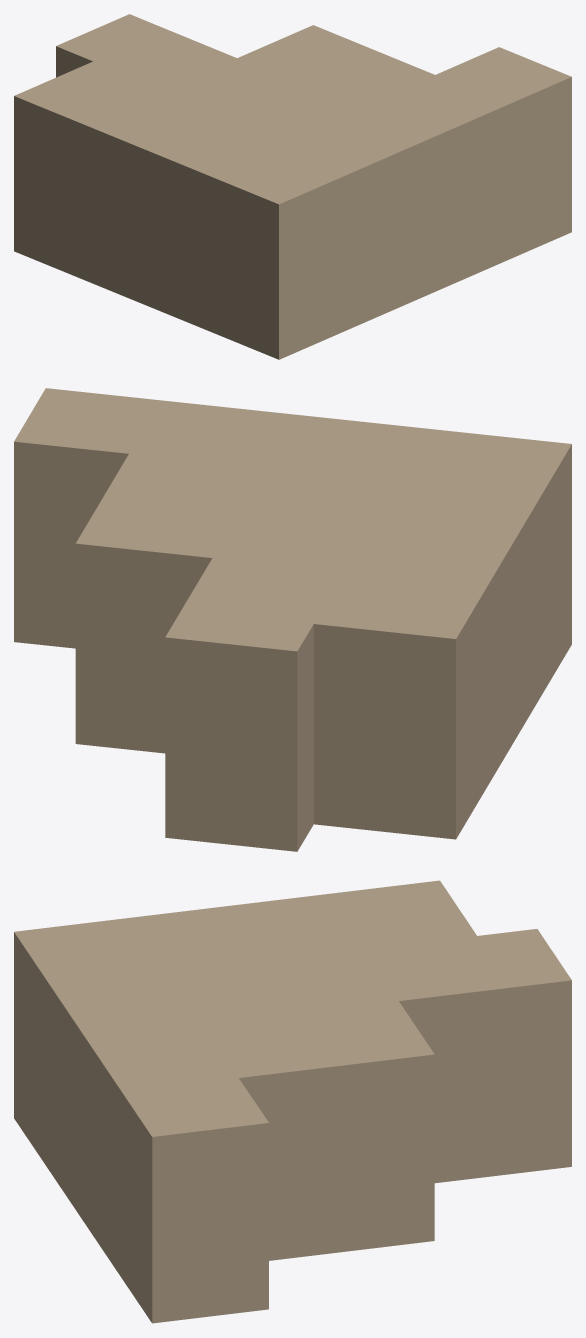
File: bld_104408987.dae
3 renders of one model, top to bottom at view 1: azimuth 30°, elevation 25°; view 2: azimuth 150°, elevation 25°; view 3: azimuth 270°, elevation 25°, orthographic. The views are drawn at different scales.
Visible parts, largest first — view 1: bld_104408987; view 2: bld_104408987; view 3: bld_104408987.
Part boxes in pixels (x1,y1,x2,y2): bld_104408987: (14, 14, 571, 359); bld_104408987: (14, 388, 571, 851); bld_104408987: (14, 880, 571, 1323).
Bounding box in the file's own units: 20.65 × 18.98 × 7.
